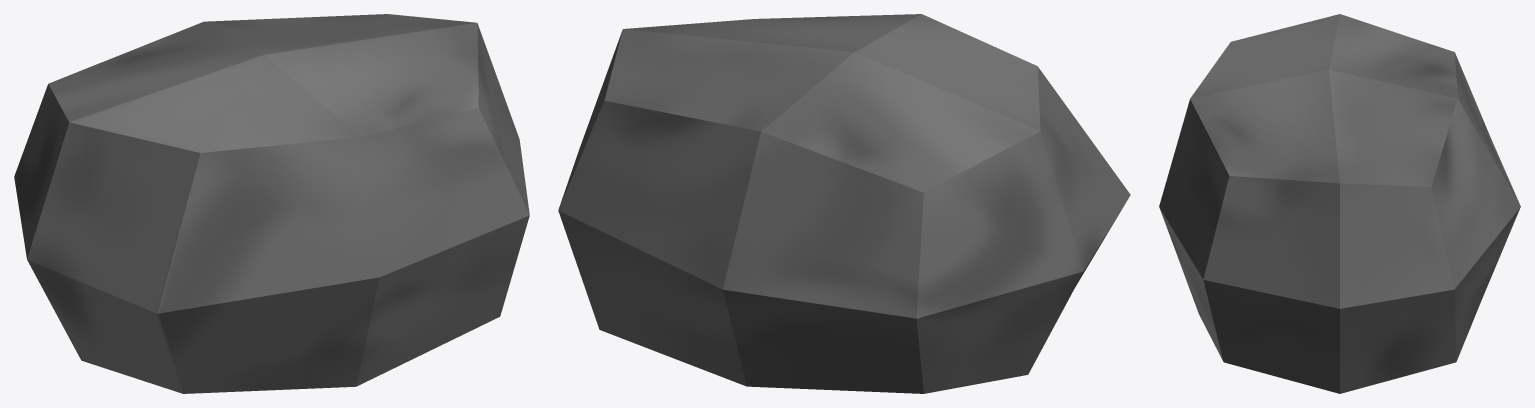
Rendered from Stone.fbx.
3 renders of one model, left to right at view 1: azimuth 30°, elevation 25°; view 2: azimuth 150°, elevation 25°; view 3: azimuth 270°, elevation 25°, orthographic. The views are drawn at different scales.
Parts seen in each view (by area): view 1: Stone_LOD0; view 2: Stone_LOD0; view 3: Stone_LOD0.
Part boxes in pixels (<box>): Stone_LOD0: <box>14,14,529,393</box>; Stone_LOD0: <box>558,14,1130,393</box>; Stone_LOD0: <box>1159,14,1520,393</box>.
Size of the model in its own units: 348 by 197 by 260.
